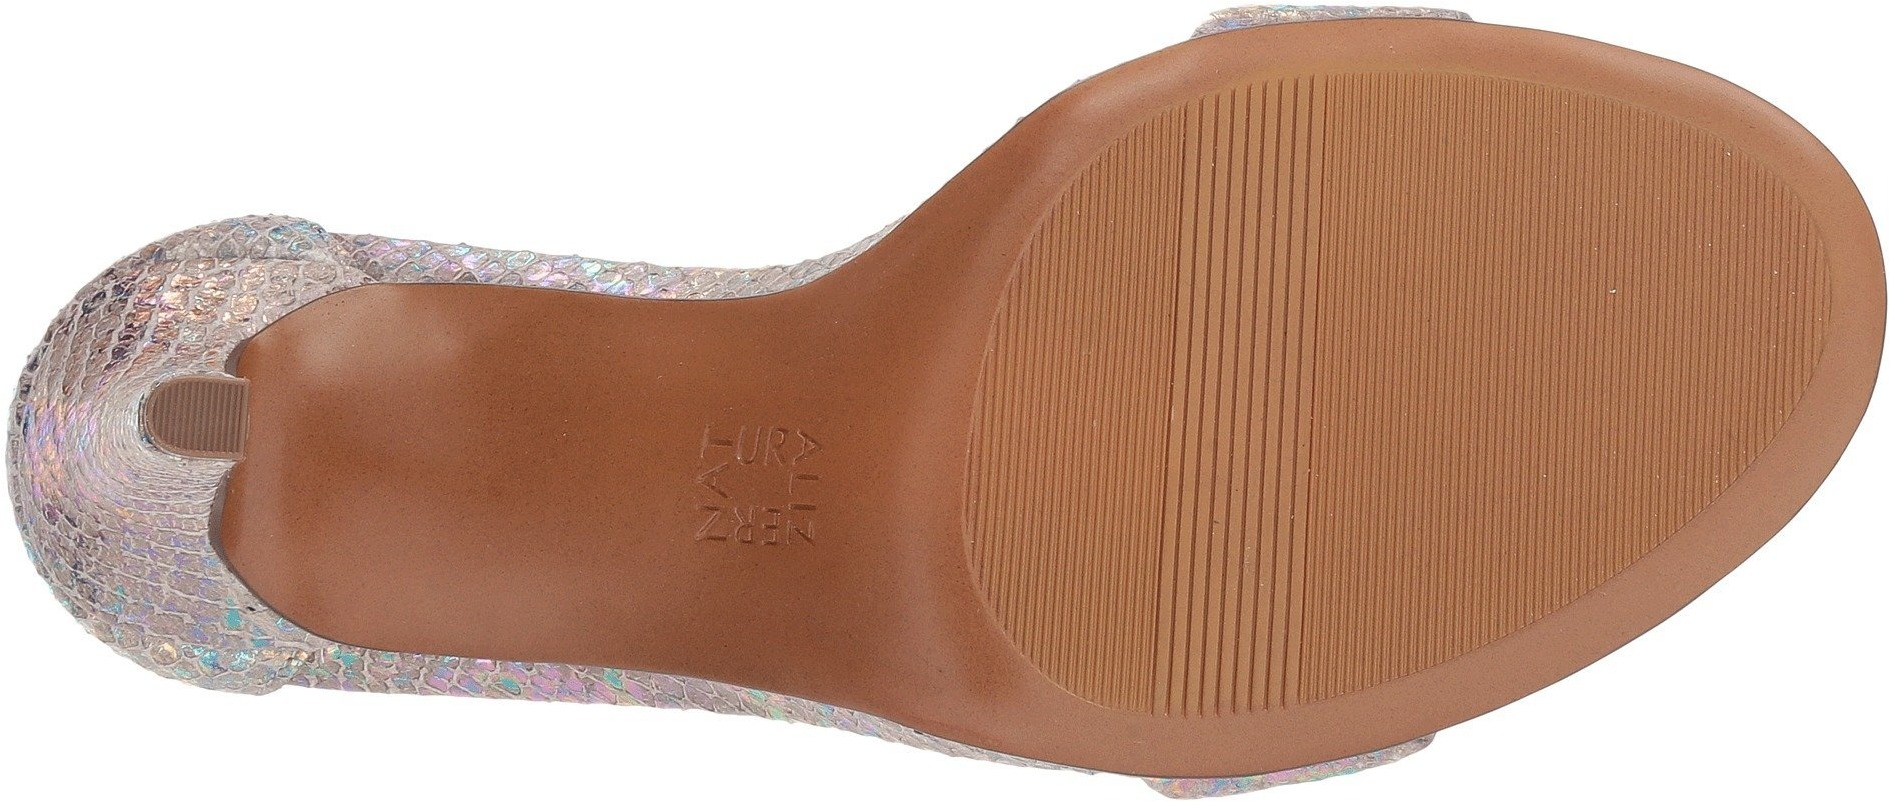exclude: (231, 453, 1021, 798)
line: (950, 42, 1860, 747)
